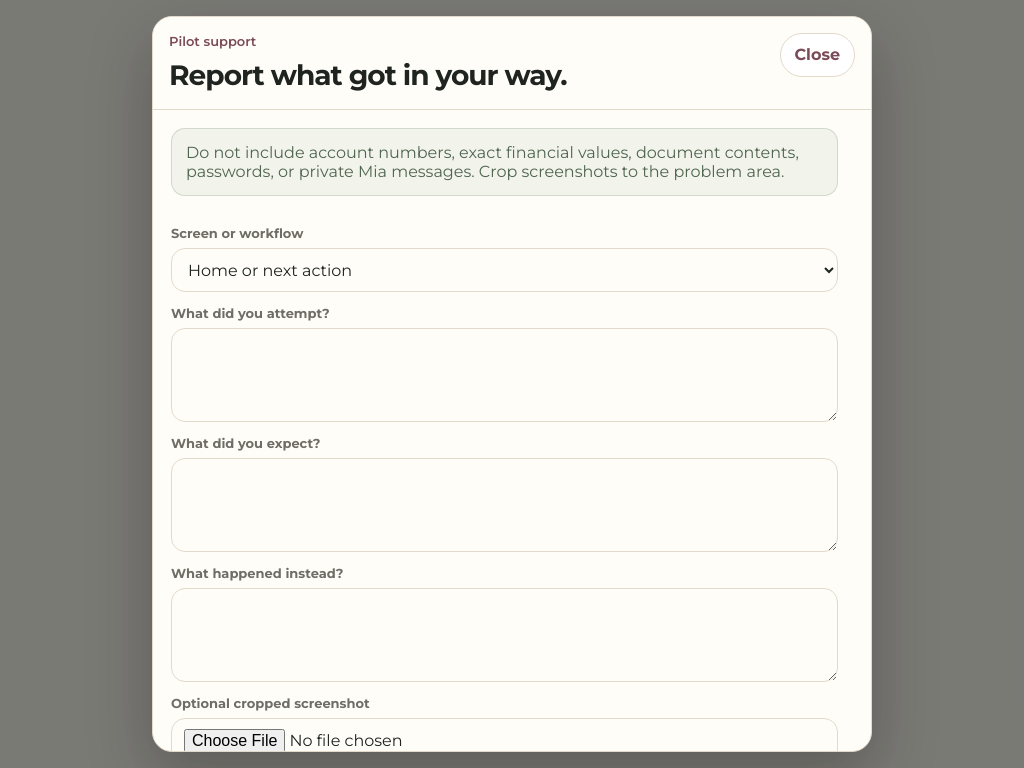
Test: report-only support sharing › requires unchecked explicit approval and sends no financial scope or narrative to analytics
Type "Open technical help" into the text box labelled "What did you attempt?". click: (504, 375)
box: x1=171 y1=328 x2=838 y2=422
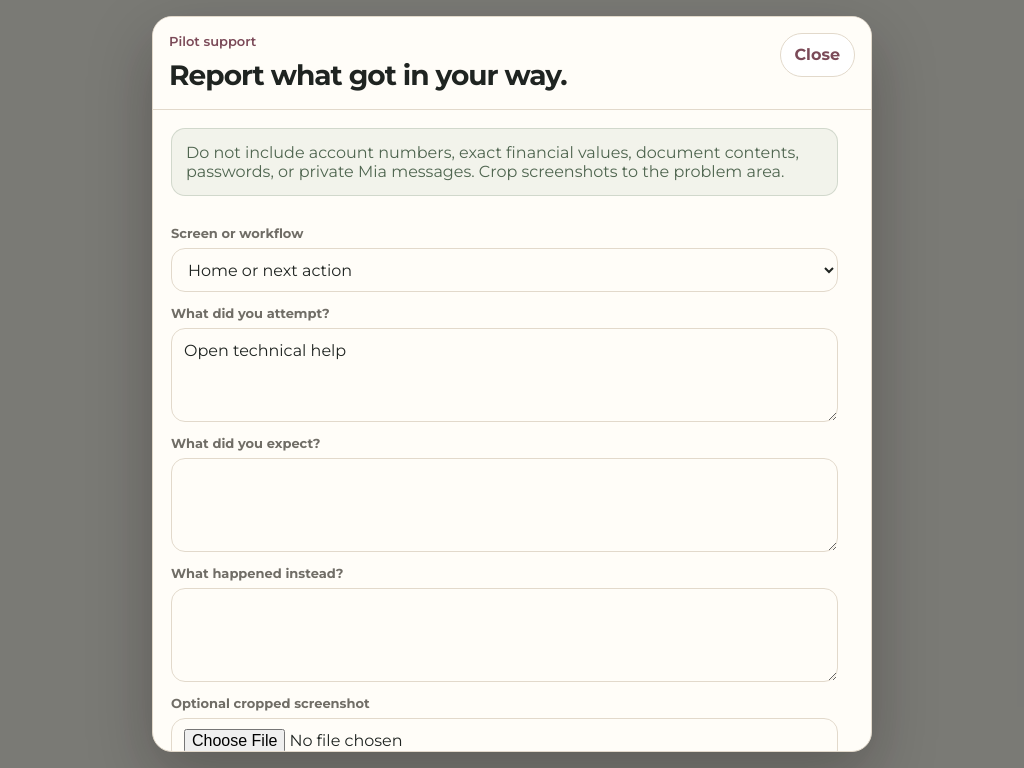
Type "A readable button" into the text box labelled "What did you expect?". click: (504, 505)
box: x1=171 y1=458 x2=838 y2=552
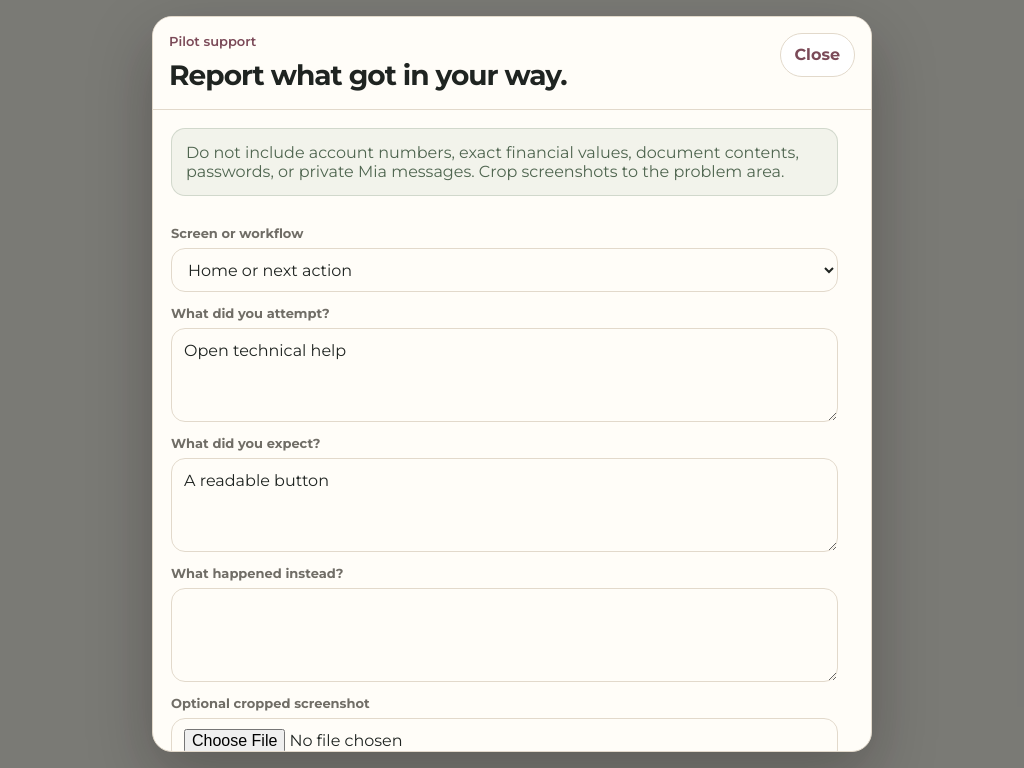
Type "A small button" into the text box labelled "What happened instead?". click: (504, 635)
box: x1=171 y1=588 x2=838 y2=682
(page scrolled)
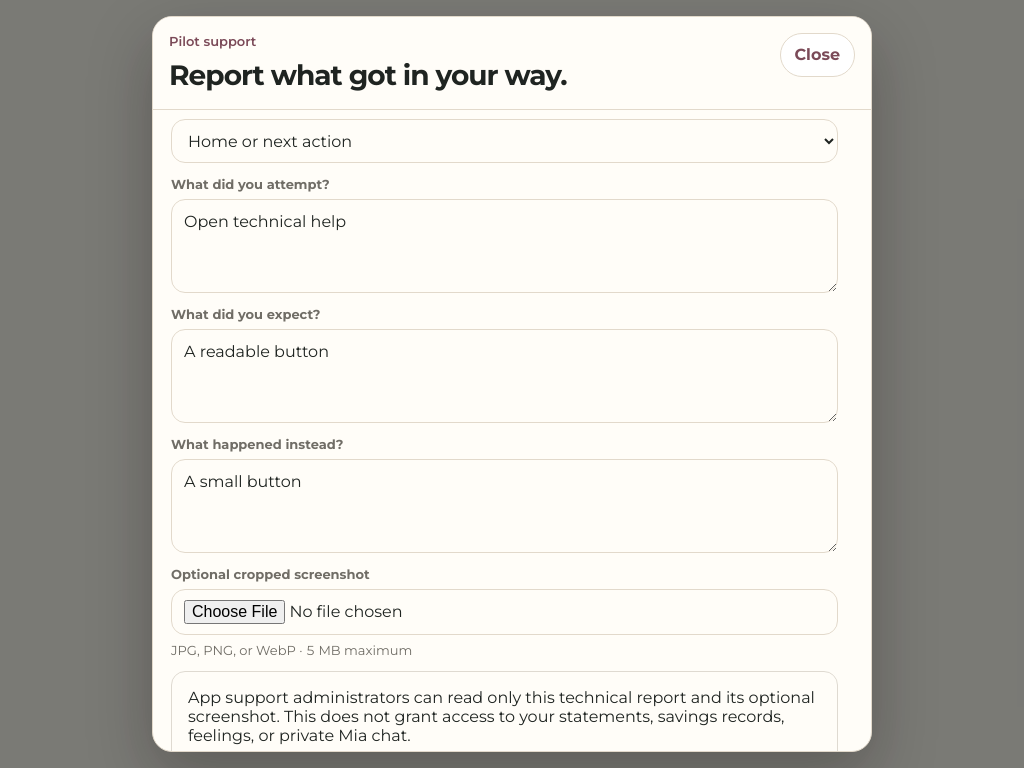
Submit the form named "Submit report"
(page scrolled)
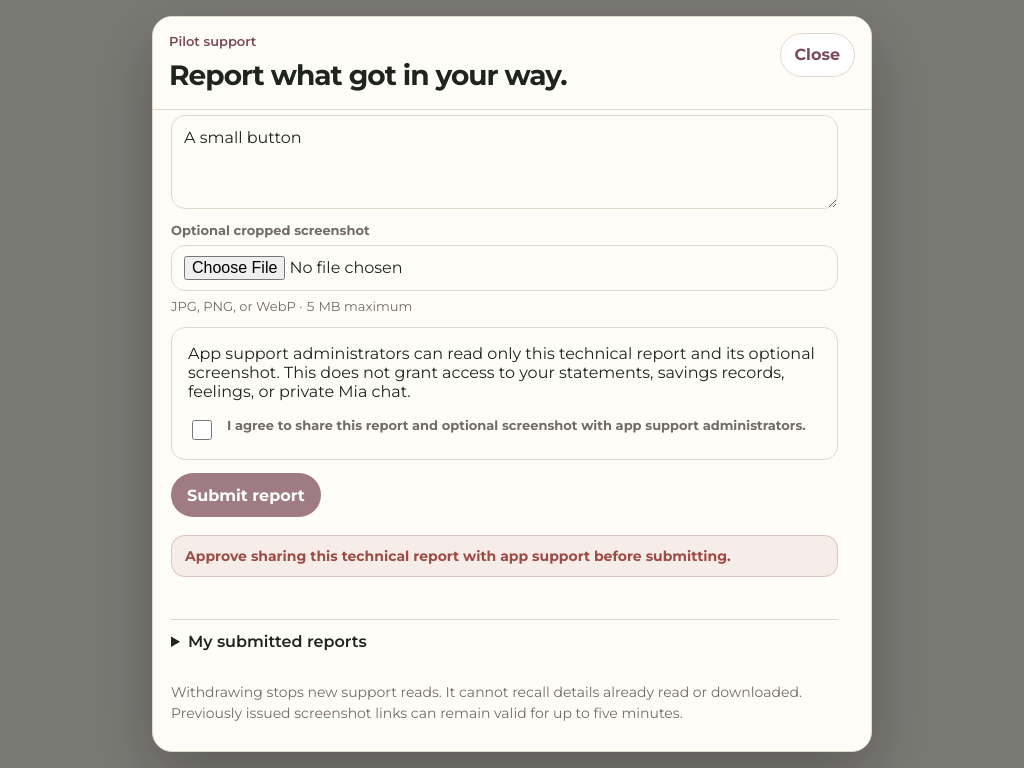
Click the checkbox named "I agree to share this report and optional screenshot with app support administrators.". click: (202, 430)
box: x1=192 y1=420 x2=212 y2=440
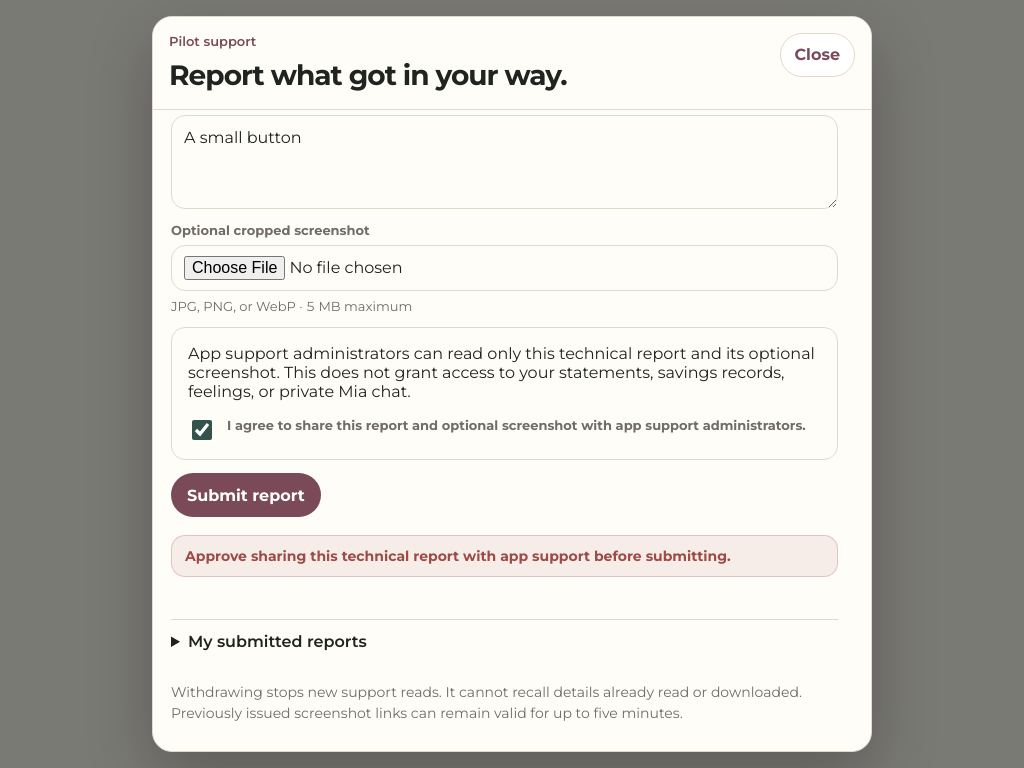
Click the button "Submit report". click: (246, 495)
box: x1=171 y1=473 x2=321 y2=517
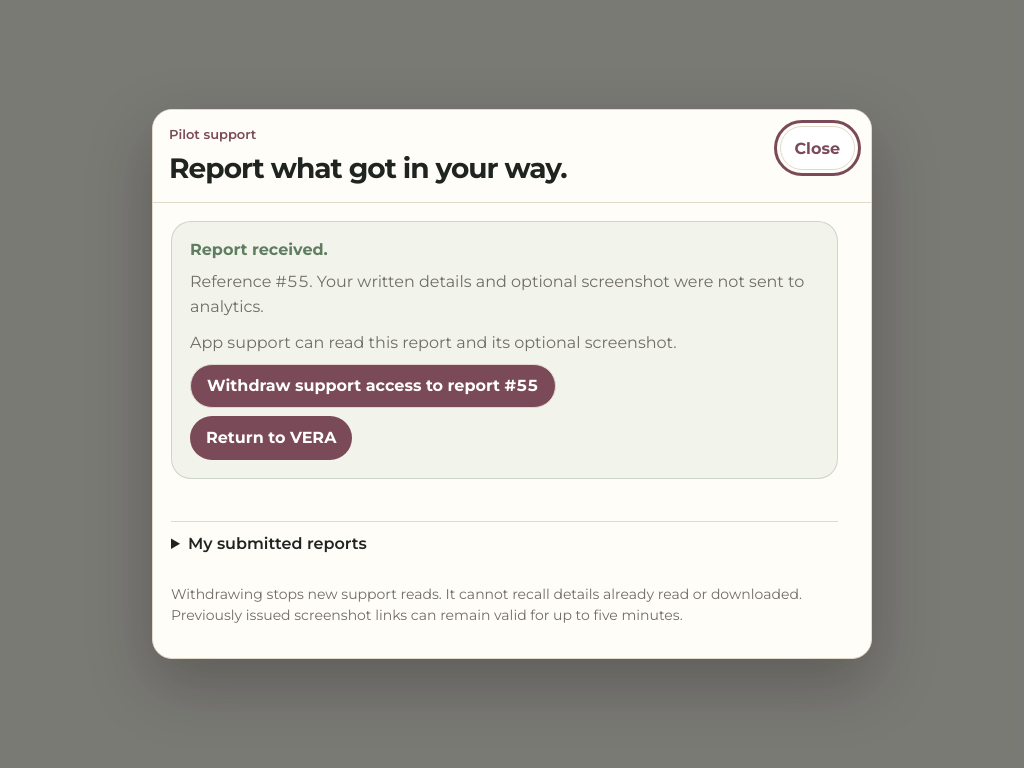
expect the text "Report received." is shown: met, box x1=190 y1=240 x2=328 y2=259
expect the button "Withdraw support access to report #55" is shown: met, box x1=190 y1=364 x2=556 y2=408
